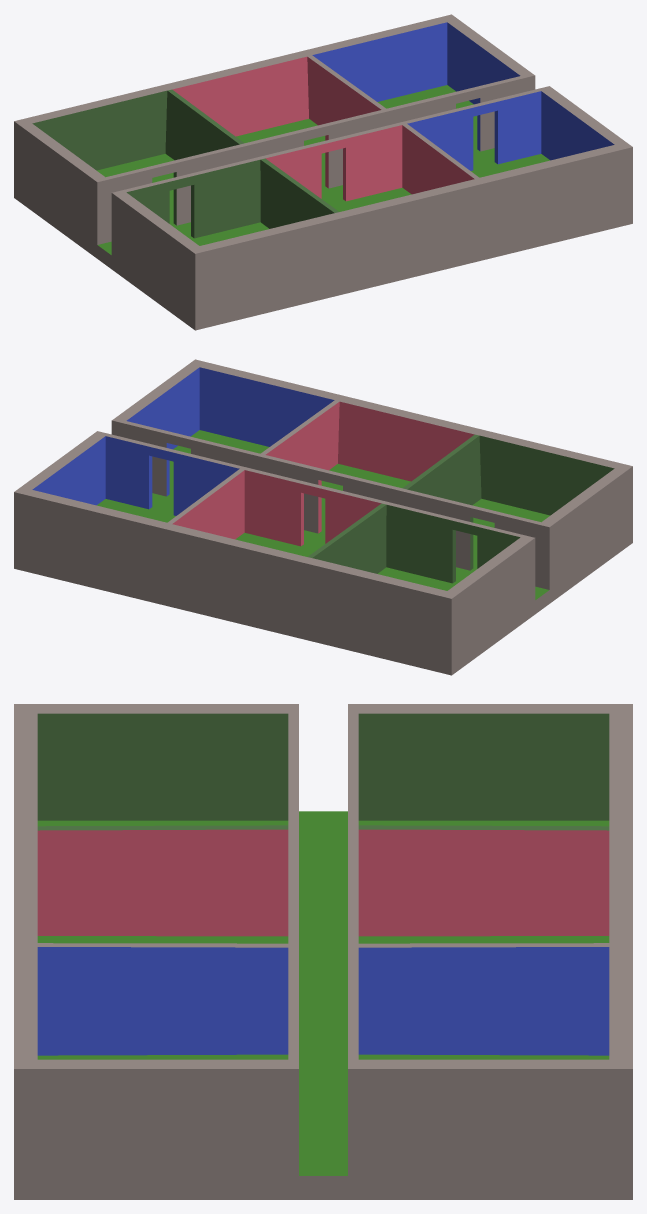
File: SleepingHouse5.fbx
The picture shows the model from 3 angles, top to bottom: view 1: azimuth 30°, elevation 25°; view 2: azimuth 150°, elevation 25°; view 3: azimuth 270°, elevation 25°; orthographic projection. The views are drawn at different scales.
Visible parts, largest first — view 1: BedRoomHouse; view 2: BedRoomHouse; view 3: BedRoomHouse.
Part boxes in pixels (box(x1,y1,x2,y2)): BedRoomHouse: box(14, 14, 632, 330); BedRoomHouse: box(14, 359, 632, 675); BedRoomHouse: box(14, 704, 632, 1199).
Bounding box in the file's own units: 4528 × 758 × 3247.
